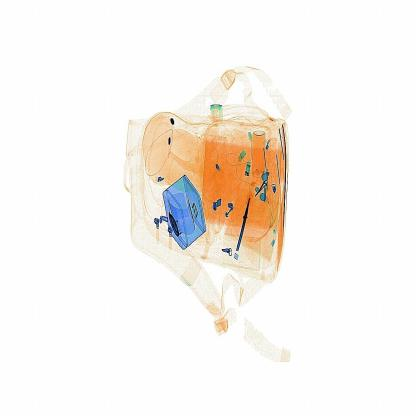gun: (234, 182, 258, 260)
